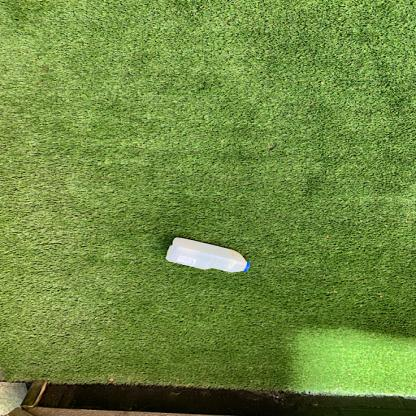trash: (164, 236, 253, 280)
